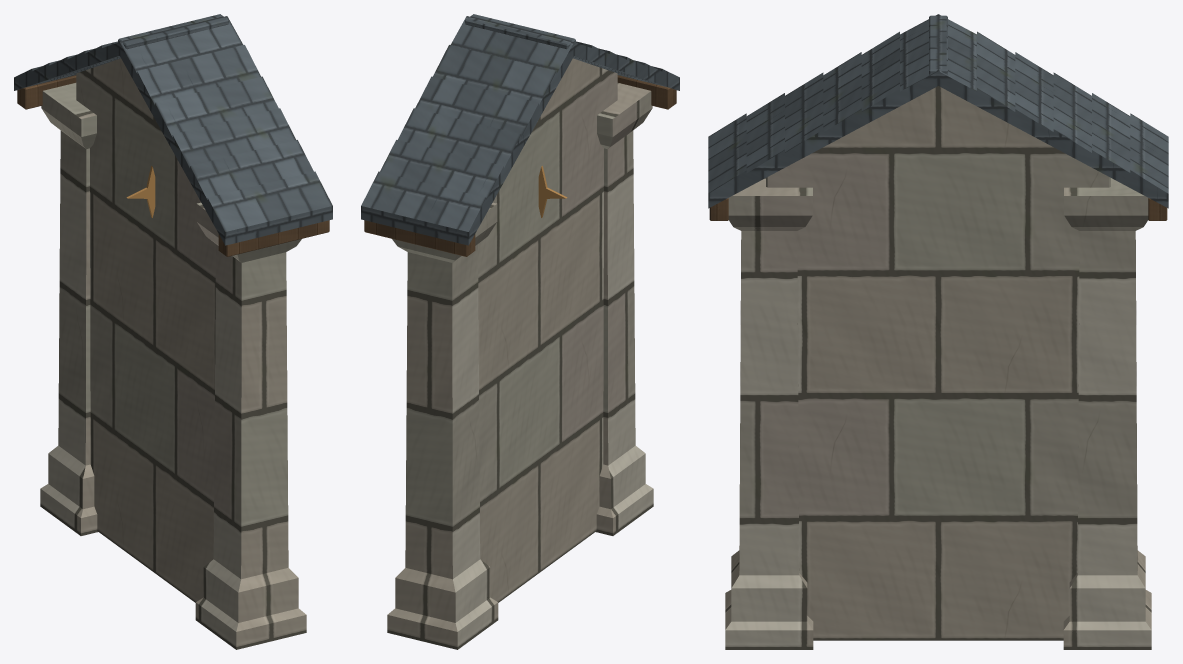
Rendered from Furn_Arcade2_End.fbx.
3 views of the same model, side by side, from view 1: azimuth 30°, elevation 25°; view 2: azimuth 150°, elevation 25°; view 3: azimuth 270°, elevation 25° (orthographic). The views are drawn at different scales.
Parts seen in each view (by area): view 1: Furn_Arcade2_End_Mesh; view 2: Furn_Arcade2_End_Mesh; view 3: Furn_Arcade2_End_Mesh.
Part boxes in pixels (<box>): Furn_Arcade2_End_Mesh: <box>14,14,332,649</box>; Furn_Arcade2_End_Mesh: <box>361,14,679,649</box>; Furn_Arcade2_End_Mesh: <box>708,14,1168,649</box>.
Bounding box in the file's own units: 1 × 4.8 × 3.4.
4 materials, 3 textured.
